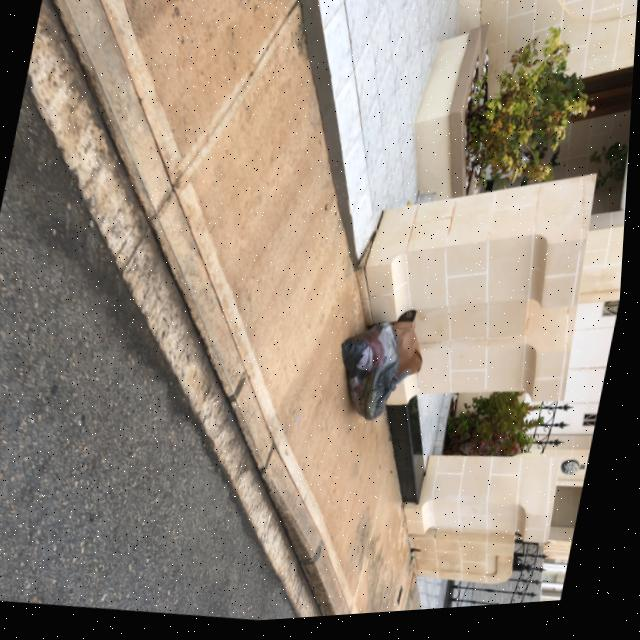Mixed Waste -Black Bag-: (332, 322, 414, 433)
Other: (390, 314, 437, 396)
